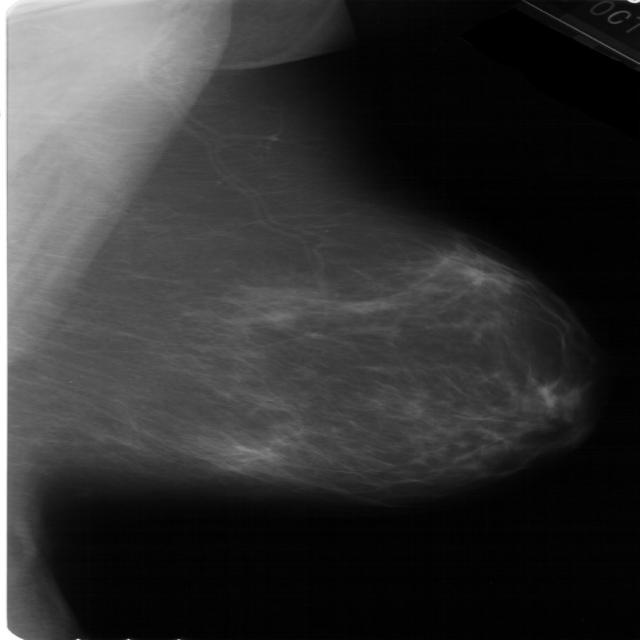tumour: (258, 307, 295, 325)
